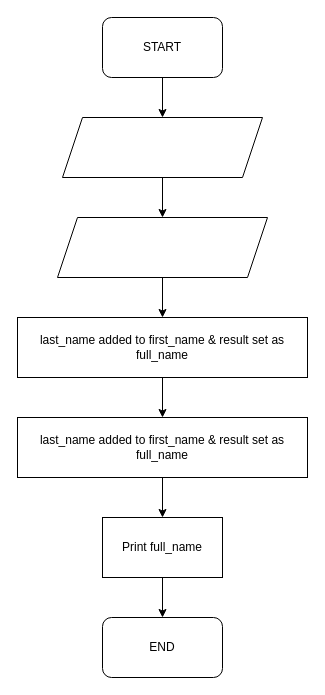
The diagram is 325 pixels wide and 695 high, and some of its shapes have lost their labels. Here are the shapes that lost their labels. From the top down, the centre of each, then its label:
At (x=162, y=147): "User input saved as first_name".
At (x=162, y=247): "User input saved as last_name".
